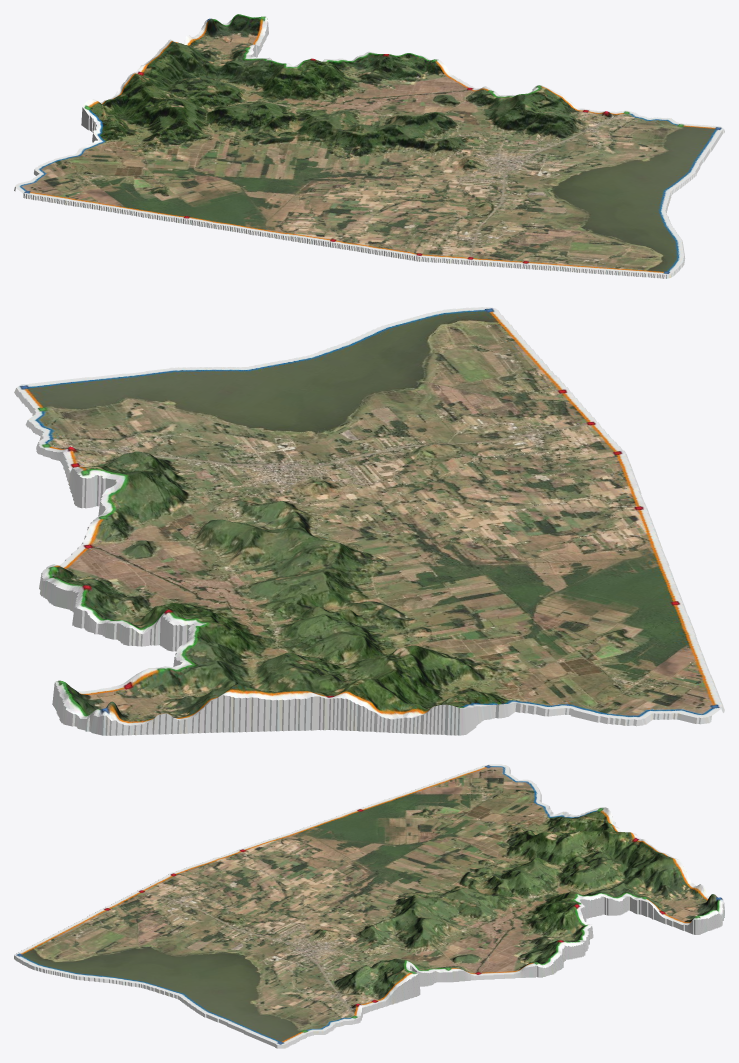
The picture shows the model from 3 angles, top to bottom: view 1: azimuth 30°, elevation 25°; view 2: azimuth 150°, elevation 25°; view 3: azimuth 270°, elevation 25°; orthographic projection. The views are drawn at different scales.
Bounding box in the file's own units: 1 × 0.0444 × 1.07.
Materials: 1 (1 with a texture image).
